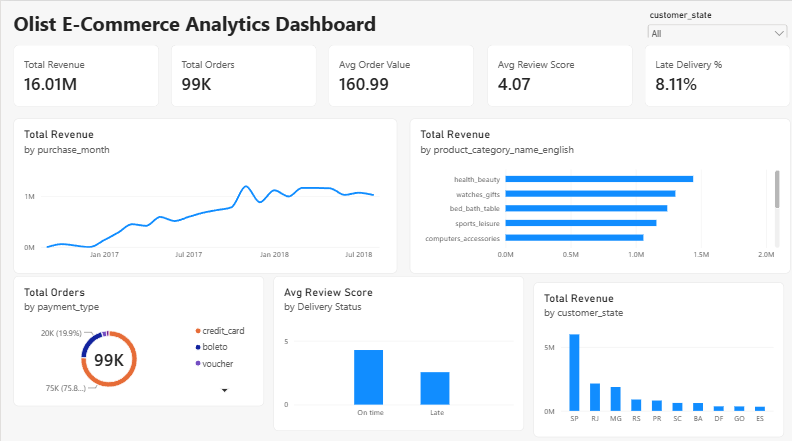

The dashboard page shown, as its layout file describes it:
{"tool":"powerbi","page":{"name":"Page 1","canvas":[1920,1080],"ordinal":0},"visuals":[{"type":"cardVisual","fields":{"Data":["cleaned_for_powerbi.Total Revenue"]},"box":[20,70,235,100],"z":0},{"type":"cardVisual","fields":{"Data":["cleaned_for_powerbi.Total Orders"]},"box":[275,70,235,100],"z":1},{"type":"cardVisual","fields":{"Data":["cleaned_for_powerbi.Avg Order Value"]},"box":[530,70,235,100],"z":2},{"type":"cardVisual","fields":{"Data":["cleaned_for_powerbi.Avg Review Score"]},"box":[785,70,235,100],"z":3},{"type":"cardVisual","fields":{"Data":["cleaned_for_powerbi.Late Delivery %"]},"box":[1040,70,235,100],"z":4},{"type":"lineChart","fields":{"Category":["cleaned_for_powerbi.purchase_month"],"Y":["cleaned_for_powerbi.Total Revenue"]},"box":[20,190,620,250],"z":5},{"type":"clusteredBarChart","fields":{"Category":["cleaned_for_powerbi.product_category_name_english"],"Y":["cleaned_for_powerbi.Total Revenue"]},"box":[660,190,615,250],"z":6},{"type":"donutChart","fields":{"Category":["cleaned_for_powerbi.payment_type"],"Y":["cleaned_for_powerbi.Total Orders"]},"box":[20,445,405,210],"z":7},{"type":"clusteredColumnChart","fields":{"Category":["cleaned_for_powerbi.Delivery Status"],"Y":["cleaned_for_powerbi.Avg Review Score"]},"box":[440,445,405,250],"z":8},{"type":"clusteredColumnChart","fields":{"Category":["cleaned_for_powerbi.customer_state"],"Y":["cleaned_for_powerbi.Total Revenue"]},"box":[860,455,405,250],"z":9},{"type":"slicer","fields":{"Values":["cleaned_for_powerbi.customer_state"]},"box":[1040,15,235,45],"z":10},{"type":"textbox","box":[879,290,280,280],"z":11},{"type":"textbox","box":[20.2,14.1,685,71.7],"z":12}]}

Visuals, with their boxes in screenshot pixels (x1, y1, x2, y2), scaled from the page's 1920x1080 canvas onto the 792x441 screenshot:
cardVisual - cleaned_for_powerbi.Total Revenue: Rect(8, 29, 105, 69)
cardVisual - cleaned_for_powerbi.Total Orders: Rect(113, 29, 210, 69)
cardVisual - cleaned_for_powerbi.Avg Order Value: Rect(219, 29, 316, 69)
cardVisual - cleaned_for_powerbi.Avg Review Score: Rect(324, 29, 421, 69)
cardVisual - cleaned_for_powerbi.Late Delivery %: Rect(429, 29, 526, 69)
lineChart - cleaned_for_powerbi.purchase_month x cleaned_for_powerbi.Total Revenue: Rect(8, 78, 264, 180)
clusteredBarChart - cleaned_for_powerbi.product_category_name_english x cleaned_for_powerbi.Total Revenue: Rect(272, 78, 526, 180)
donutChart - cleaned_for_powerbi.payment_type x cleaned_for_powerbi.Total Orders: Rect(8, 182, 175, 267)
clusteredColumnChart - cleaned_for_powerbi.Delivery Status x cleaned_for_powerbi.Avg Review Score: Rect(182, 182, 349, 284)
clusteredColumnChart - cleaned_for_powerbi.customer_state x cleaned_for_powerbi.Total Revenue: Rect(355, 186, 522, 288)
slicer - cleaned_for_powerbi.customer_state: Rect(429, 6, 526, 24)
textbox: Rect(363, 118, 478, 233)
textbox: Rect(8, 6, 291, 35)
